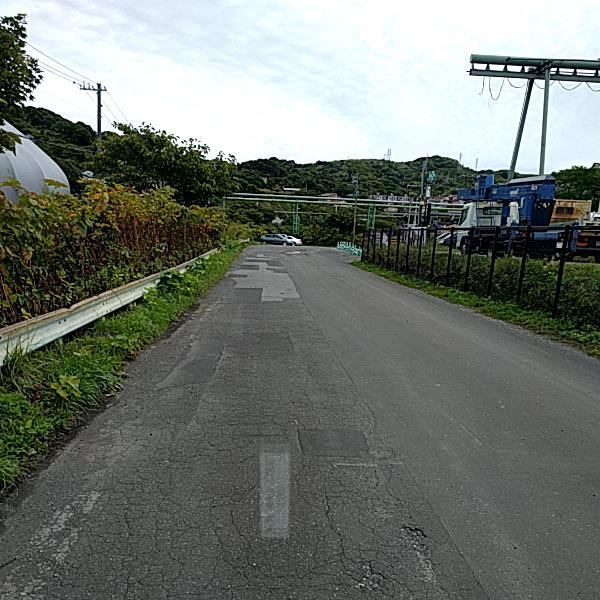D20: (11, 419, 449, 599)
D40: (395, 519, 444, 588), (350, 561, 388, 592)
